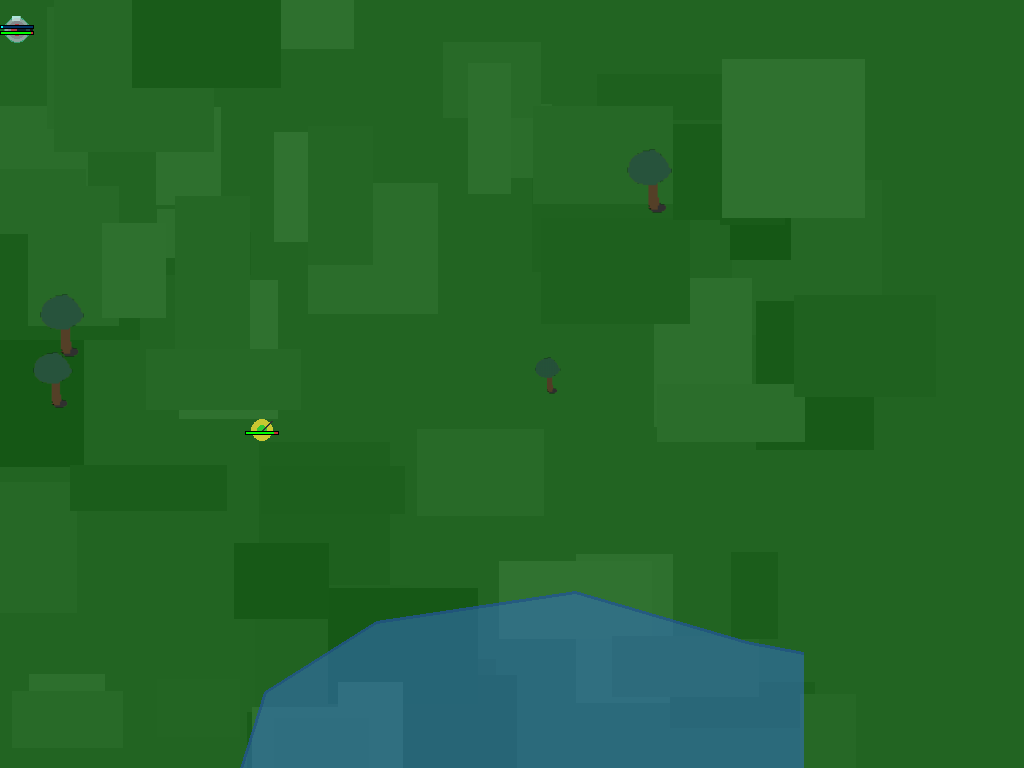CombatEngineer: (242, 410, 281, 449)
Lake: (136, 592, 804, 768)
Shotgunner: (0, 10, 39, 49)
